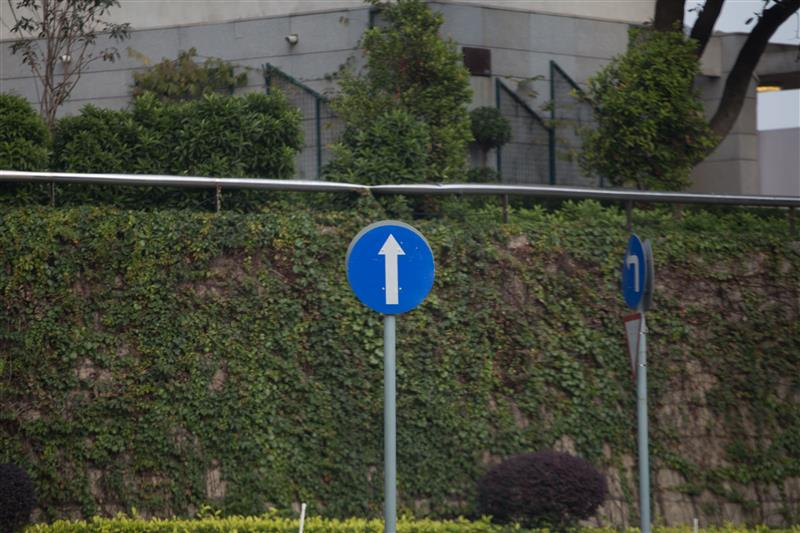straightOnly: (346, 223, 436, 313)
